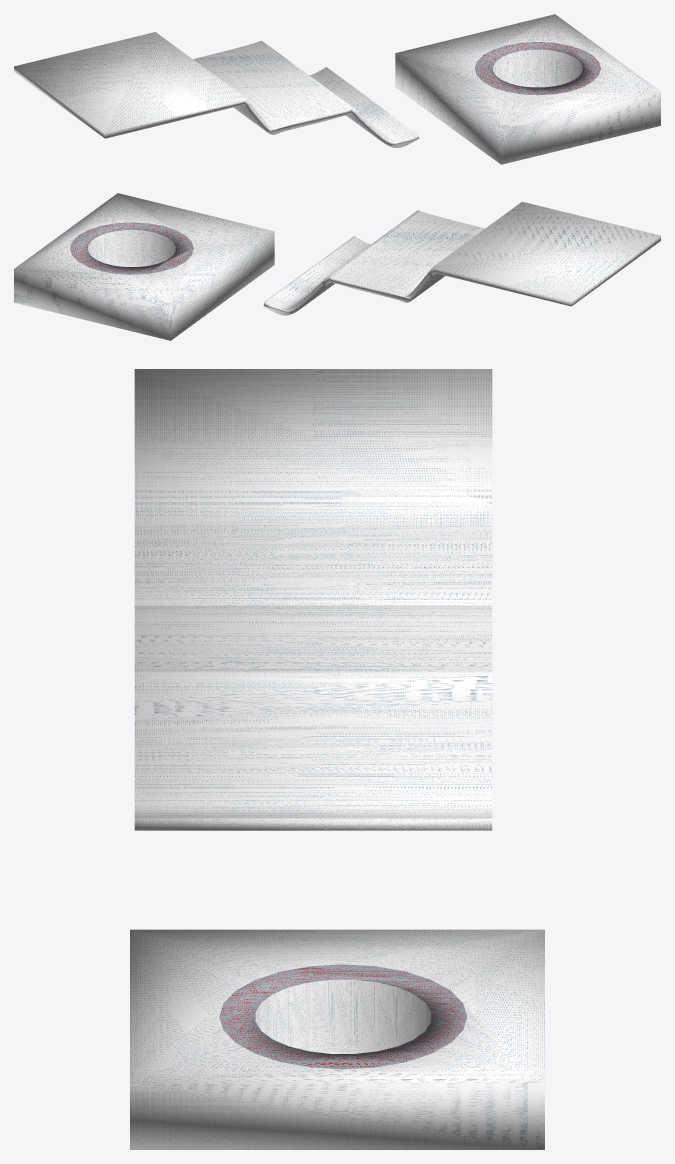
3 renders of one model, top to bottom at view 1: azimuth 30°, elevation 25°; view 2: azimuth 150°, elevation 25°; view 3: azimuth 270°, elevation 25°, orthographic. The views are drawn at different scales.
Visible parts, largest first — view 1: Group1; view 2: Group1; view 3: Group1.
Part boxes in pixels (x1,y1,x2,y2): Group1: [14, 14, 660, 164]; Group1: [14, 193, 660, 340]; Group1: [130, 369, 544, 1149].
Bounding box in the file's own units: 11.35 × 2.49 × 3.75.
